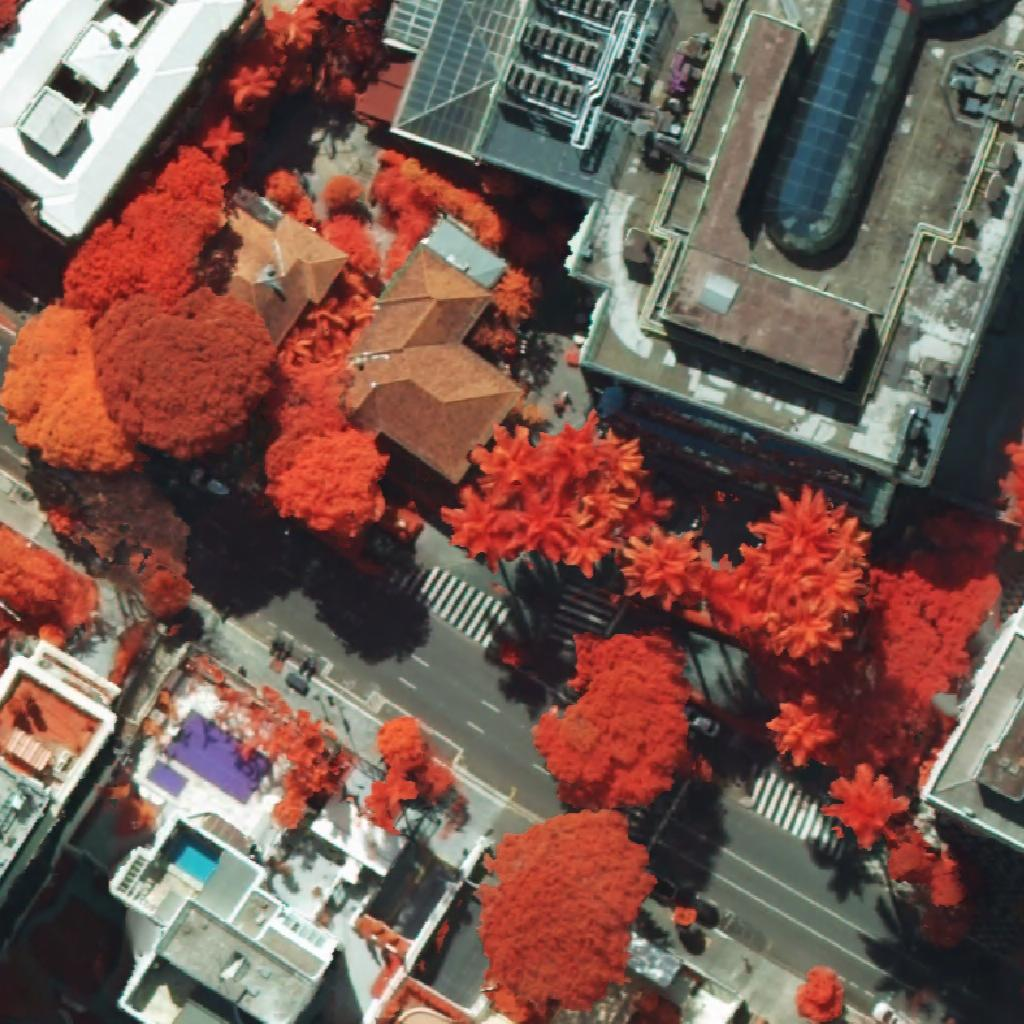pool: (165, 710, 274, 805), (167, 834, 221, 885), (146, 761, 189, 797)
